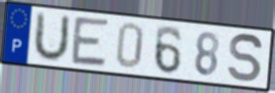0: (114, 21, 145, 71)
6: (153, 25, 184, 76)
8: (193, 31, 221, 78)
E: (69, 15, 112, 69)
S: (227, 32, 265, 85)
U: (31, 10, 72, 63)
